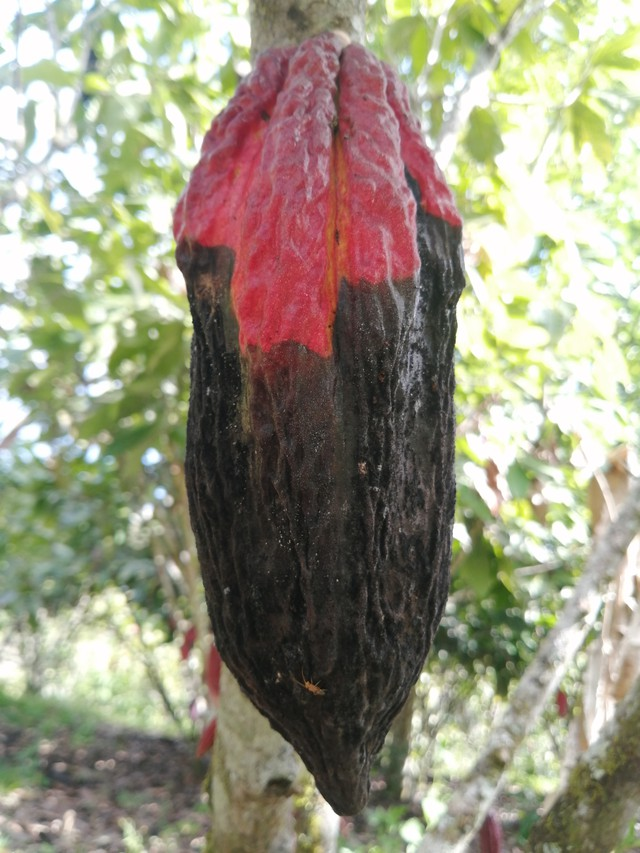phytophthora palmivora: (139, 26, 482, 830)
